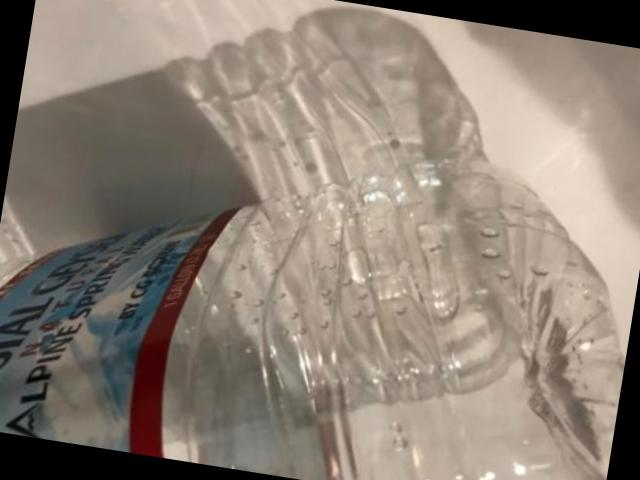plastic: (0, 159, 625, 480)
